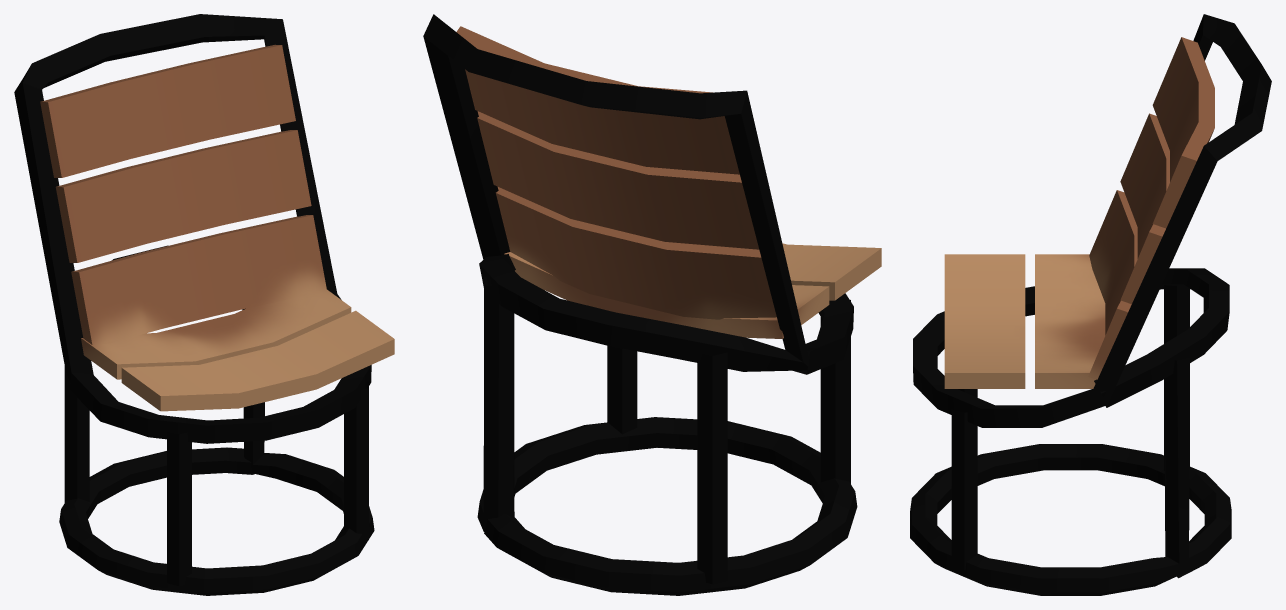
File: benchchair.glb
3 views of the same model, side by side, from view 1: azimuth 30°, elevation 25°; view 2: azimuth 150°, elevation 25°; view 3: azimuth 270°, elevation 25° (orthographic). The views are drawn at different scales.
Visible parts, largest first — view 1: benchchair; view 2: benchchair; view 3: benchchair.
Boxes of the visible parts, box(x1,y1,x2,y2) form: benchchair: box(14, 14, 394, 595); benchchair: box(423, 14, 881, 595); benchchair: box(910, 14, 1271, 595).
Size of the model in its own units: 0.553 by 0.8645 by 0.622.
1 material, 1 textured.
